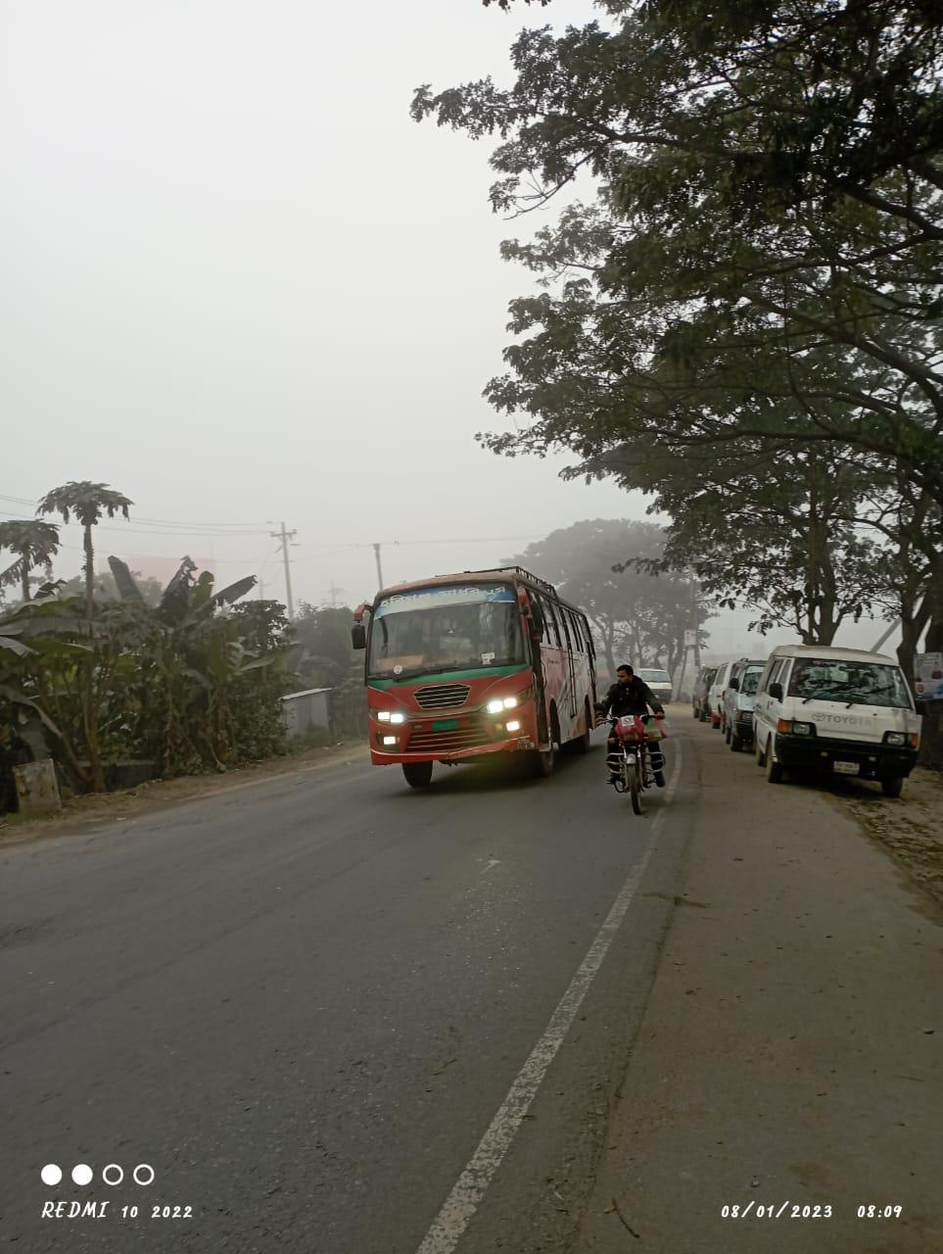Bike: (596, 658, 684, 823)
Bus: (347, 565, 597, 771)
Car: (746, 626, 934, 803), (639, 658, 687, 708)
